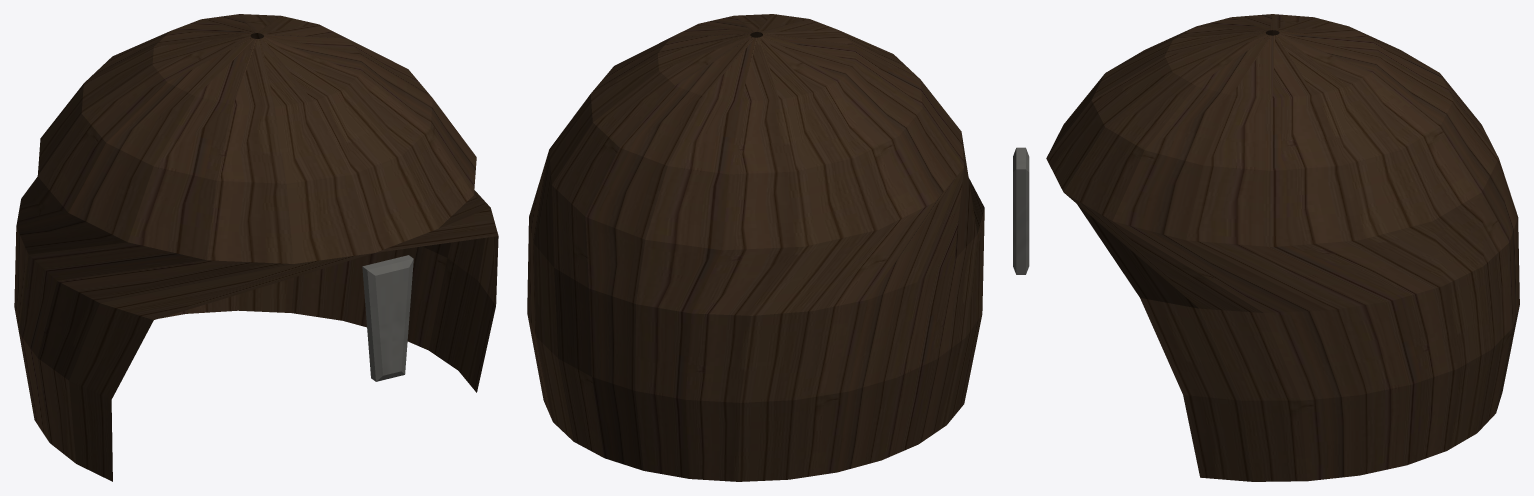
Rendered from eq_past_1_head.glb.
The picture shows the model from 3 angles, left to right: view 1: azimuth 30°, elevation 25°; view 2: azimuth 150°, elevation 25°; view 3: azimuth 270°, elevation 25°; orthographic projection. The views are drawn at different scales.
Parts seen in each view (by area): view 1: eq_past_1_head; view 2: eq_past_1_head; view 3: eq_past_1_head.
Part boxes in pixels (x1,y1,x2,y2): eq_past_1_head: (14,14,498,481); eq_past_1_head: (527,14,984,481); eq_past_1_head: (1013,14,1519,481).
Bounding box in the file's own units: 0.2821 × 0.246 × 0.3144.
2 materials, 2 textured.
